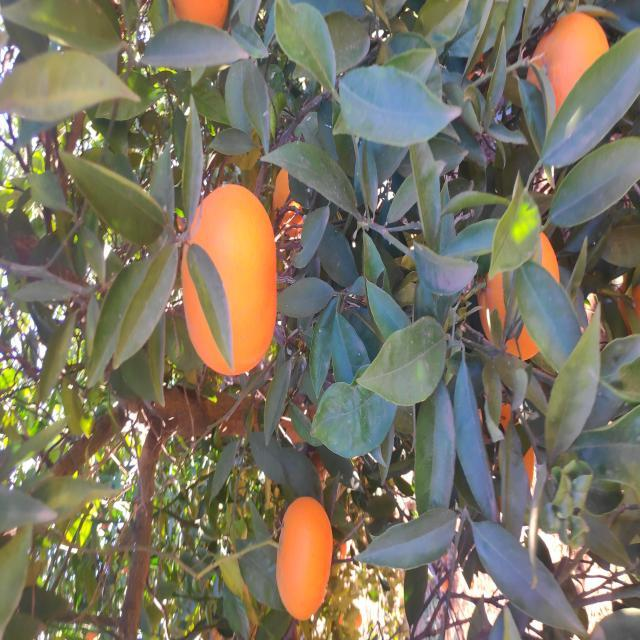Jeruk Sudah Matang: (265, 182, 460, 274), (493, 525, 632, 613), (276, 481, 415, 559), (22, 278, 144, 330), (606, 171, 640, 225)
